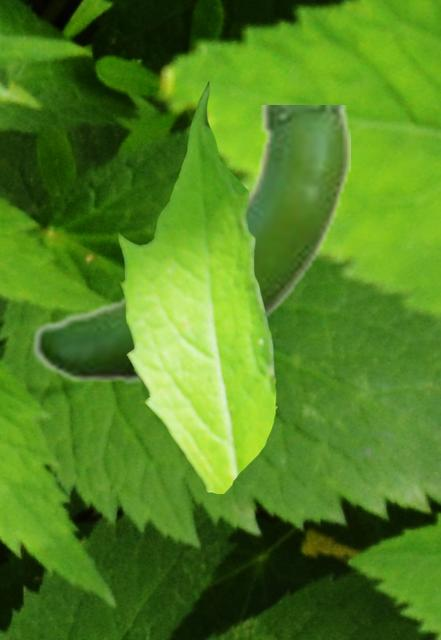green_chili: (30, 105, 349, 385)
